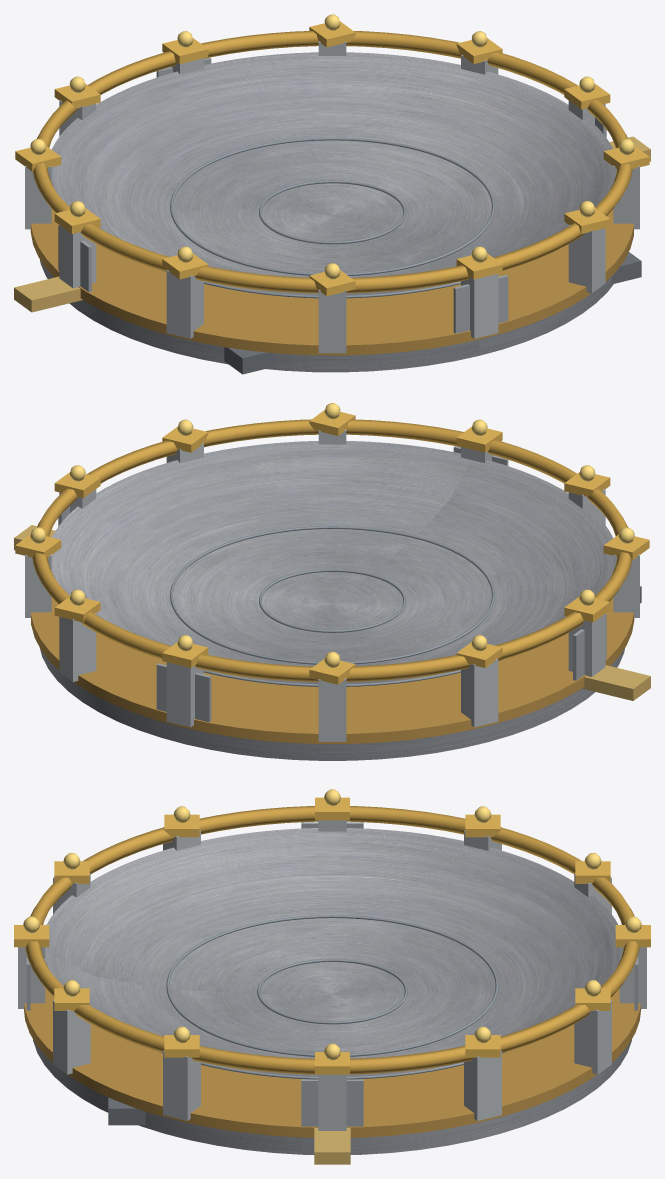
The model's file is arena.glb.
The picture shows the model from 3 angles, top to bottom: view 1: azimuth 30°, elevation 25°; view 2: azimuth 150°, elevation 25°; view 3: azimuth 270°, elevation 25°; orthographic projection. The views are drawn at different scales.
Parts seen in each view (by area): view 1: part-2, part-1, part-6, part-0, part-4, part-24, part-14, part-17, part-21, part-47, part-27, part-20 (+19 smaller); view 2: part-2, part-1, part-6, part-0, part-4, part-31, part-41, part-37, part-34, part-47, part-27, part-40 (+17 smaller); view 3: part-2, part-1, part-6, part-0, part-4, part-11, part-44, part-14, part-41, part-10, part-7, part-48 (+17 smaller).
Boxes of the visible parts, x1,y1,x2,y2 form: part-2: [50, 52, 614, 295]; part-1: [30, 209, 633, 355]; part-6: [33, 31, 632, 293]; part-0: [40, 260, 613, 372]; part-4: [170, 137, 494, 275]; part-24: [166, 270, 203, 338]; part-14: [568, 225, 605, 293]; part-17: [461, 273, 498, 338]; part-21: [318, 290, 346, 353]; part-47: [14, 276, 82, 312]; part-27: [59, 225, 96, 288]; part-20: [453, 275, 508, 333]; part-2: [51, 441, 613, 683]; part-1: [31, 598, 634, 743]; part-6: [32, 419, 632, 681]; part-0: [40, 648, 624, 760]; part-4: [170, 526, 494, 664]; part-31: [461, 658, 498, 727]; part-41: [59, 613, 96, 681]; part-37: [166, 662, 203, 727]; part-34: [318, 678, 346, 741]; part-47: [582, 665, 650, 700]; part-27: [568, 614, 605, 676]; part-40: [156, 663, 211, 722]; part-2: [44, 828, 620, 1076]; part-1: [24, 988, 640, 1137]; part-6: [25, 806, 639, 1074]; part-0: [33, 1039, 631, 1154]; part-4: [166, 915, 498, 1056]; part-11: [163, 1050, 200, 1120]; part-44: [464, 1050, 501, 1120]; part-14: [53, 1000, 90, 1074]; part-41: [574, 1000, 611, 1074]; part-10: [301, 1079, 363, 1126]; part-7: [318, 1074, 346, 1130]; part-48: [314, 1128, 350, 1164].
Bounding box in the file's own units: 6.44 × 1.08 × 5.61.
51 materials, 2 textured.
